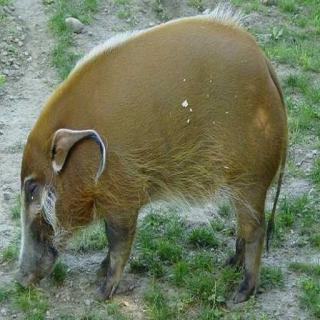Pig: (7, 37, 320, 311)
